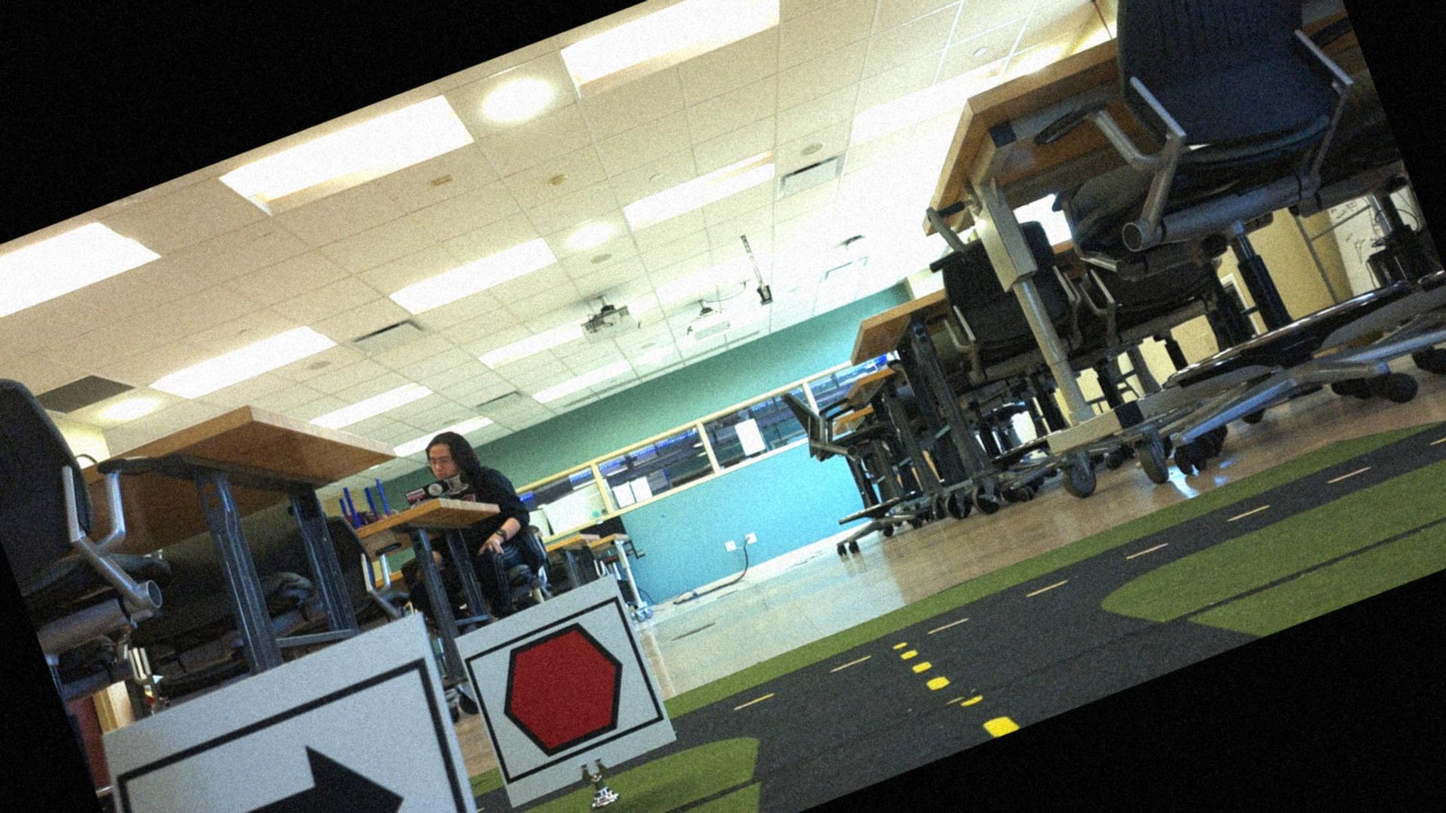stop: (465, 602, 665, 778)
turnright: (111, 668, 506, 812)
yellowline: (901, 623, 1015, 758)
